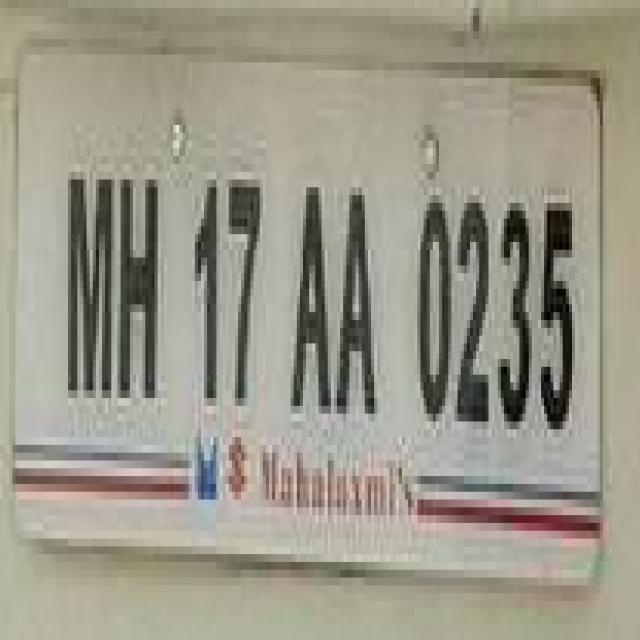license_plate: (0, 16, 609, 538)
